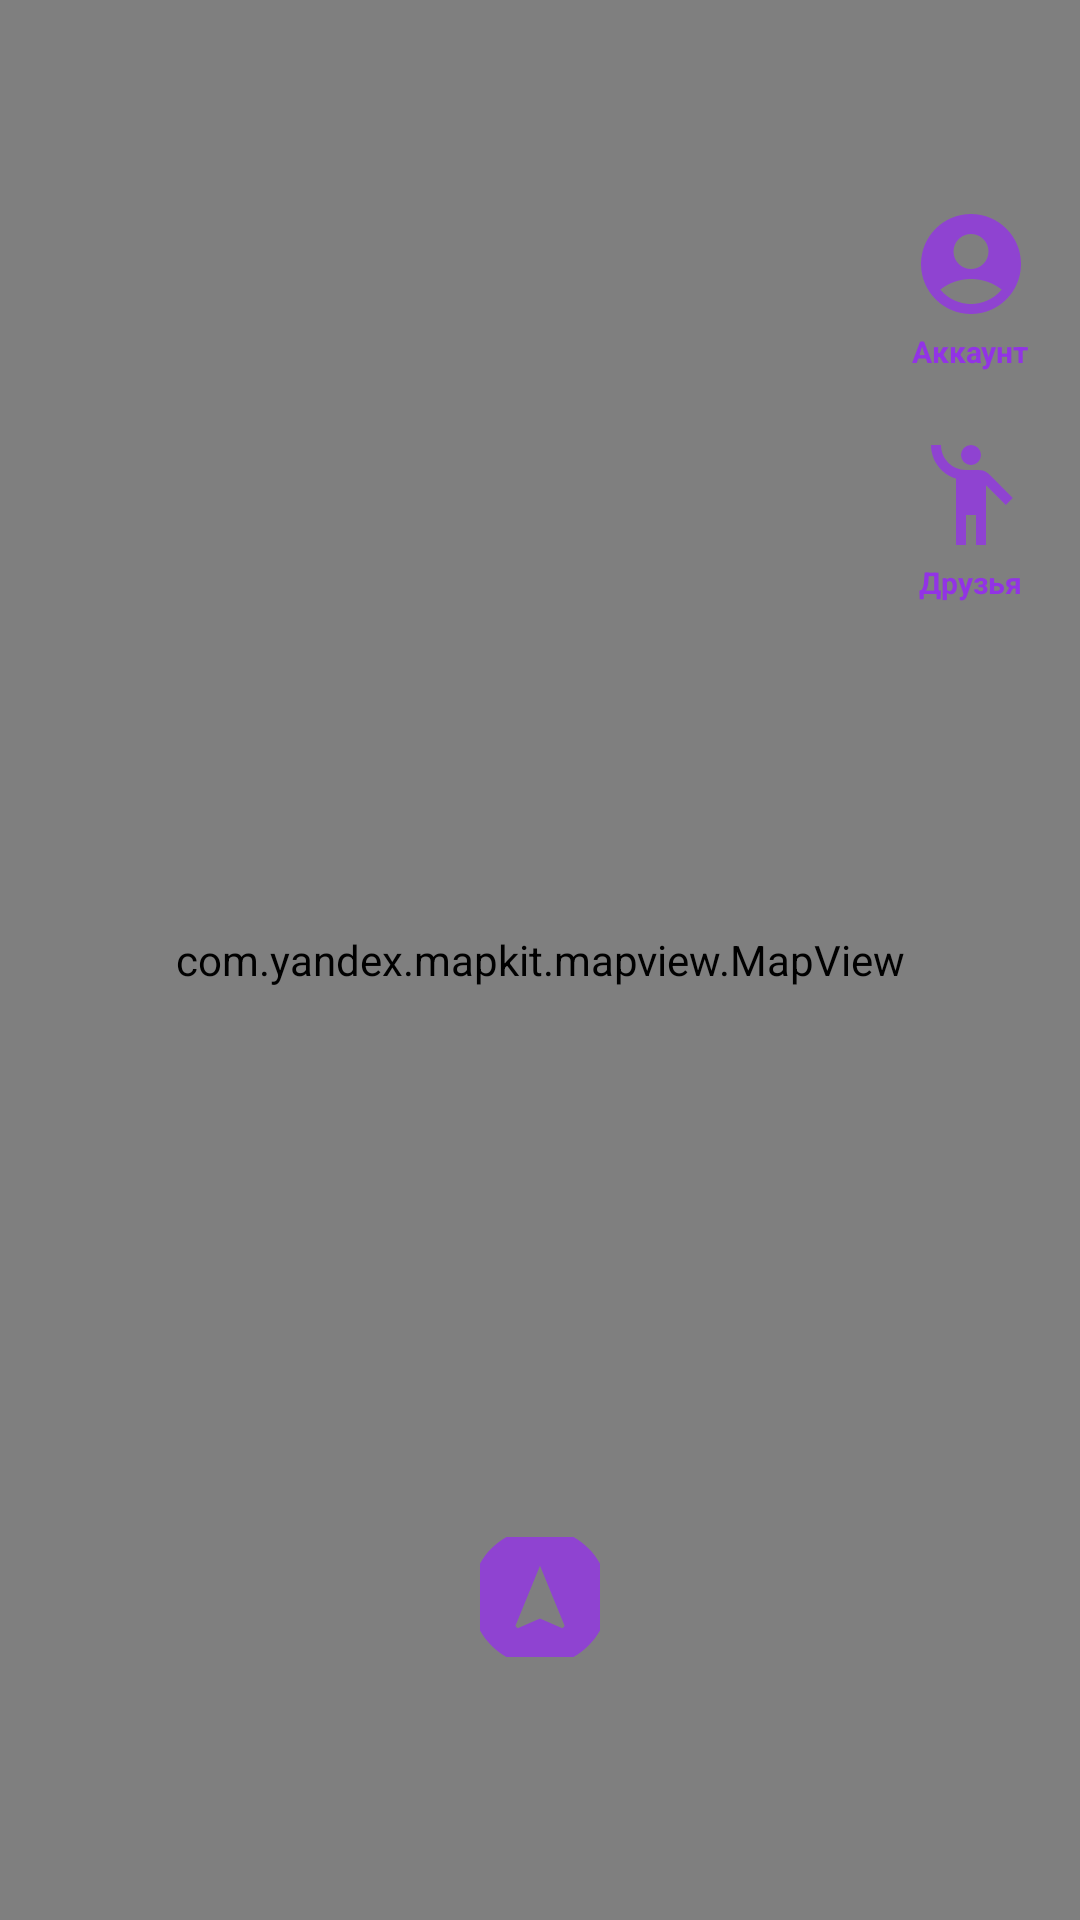

Point at icon controls on the screen. Image size 1080px×1920px, points as [x,y].
loc: [540,1597]
